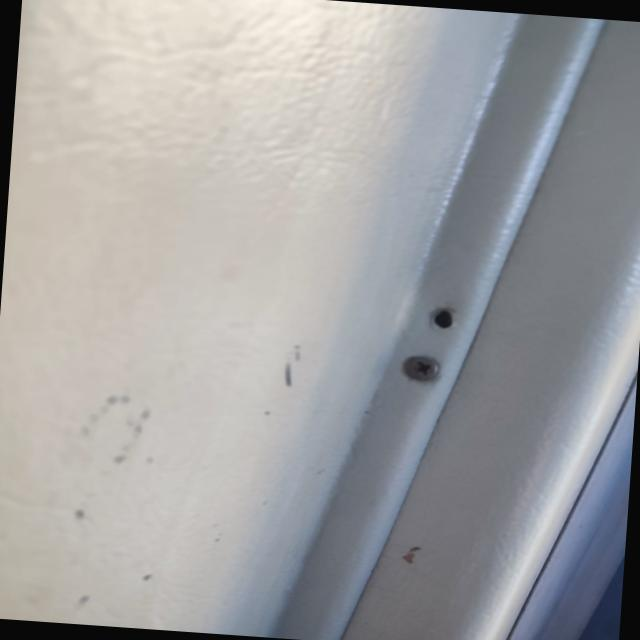Phillips: (397, 352, 444, 386)
